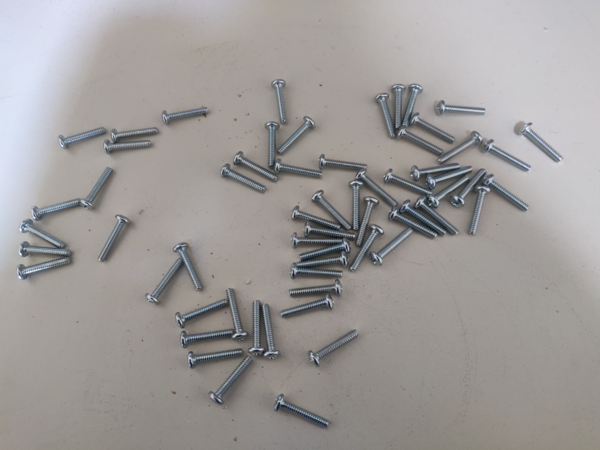longscrew: (306, 329, 362, 367), (210, 355, 251, 405), (272, 398, 332, 429), (79, 165, 115, 214), (146, 260, 187, 303), (520, 124, 565, 163), (95, 213, 130, 263), (484, 176, 532, 212), (390, 209, 434, 246), (370, 231, 415, 267), (417, 198, 461, 234), (402, 199, 446, 235), (173, 242, 207, 288), (352, 172, 400, 204), (439, 131, 485, 164), (15, 258, 69, 286), (487, 138, 532, 171), (174, 299, 227, 327), (186, 347, 244, 372), (180, 330, 238, 355), (352, 224, 382, 271), (312, 191, 351, 227), (428, 176, 471, 208), (17, 221, 67, 248), (219, 163, 265, 192), (386, 170, 433, 197), (281, 117, 317, 152), (454, 169, 486, 207), (399, 126, 442, 154), (414, 114, 454, 144), (236, 152, 278, 180), (58, 124, 105, 148), (31, 197, 78, 221), (467, 187, 490, 236), (287, 206, 342, 226), (355, 198, 376, 248), (262, 305, 281, 360), (227, 286, 246, 341), (296, 252, 350, 271), (298, 243, 351, 262), (289, 261, 342, 280), (289, 279, 342, 298), (280, 298, 333, 317), (249, 300, 267, 355), (427, 168, 473, 189), (411, 162, 457, 183), (390, 84, 412, 127), (371, 92, 393, 135), (403, 83, 425, 125), (262, 121, 283, 164), (268, 79, 289, 121), (272, 160, 321, 177), (286, 234, 345, 248), (435, 99, 489, 114), (318, 157, 367, 173), (163, 107, 212, 123), (111, 126, 160, 142), (103, 141, 151, 157), (299, 224, 358, 237), (17, 246, 77, 256)
